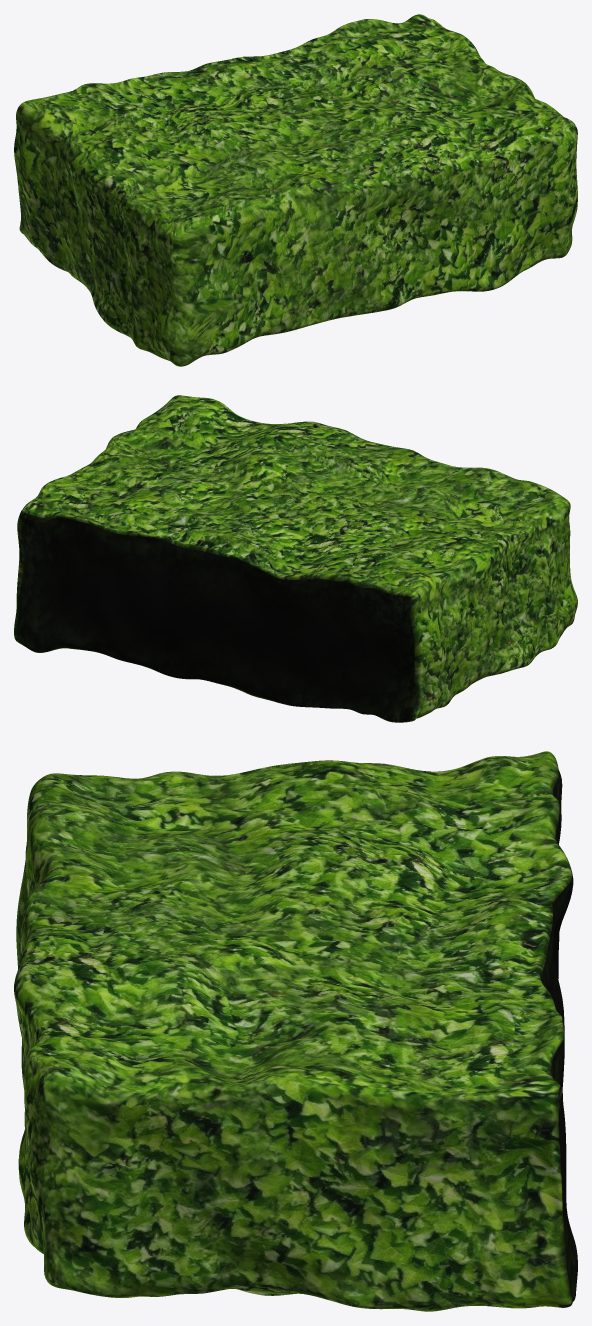
File: CorrectedHedge.gltf
The picture shows the model from 3 angles, top to bottom: view 1: azimuth 30°, elevation 25°; view 2: azimuth 150°, elevation 25°; view 3: azimuth 270°, elevation 25°; orthographic projection. The views are drawn at different scales.
Visible parts, largest first — view 1: Node1; view 2: Node1; view 3: Node1.
Boxes of the visible parts, x1,y1,x2,y2 form: Node1: (14,14,577,366); Node1: (14,395,577,722); Node1: (14,751,577,1311).
Bounding box in the file's own units: 231 × 80.5 × 160.
Materials: 1 (1 with a texture image).
